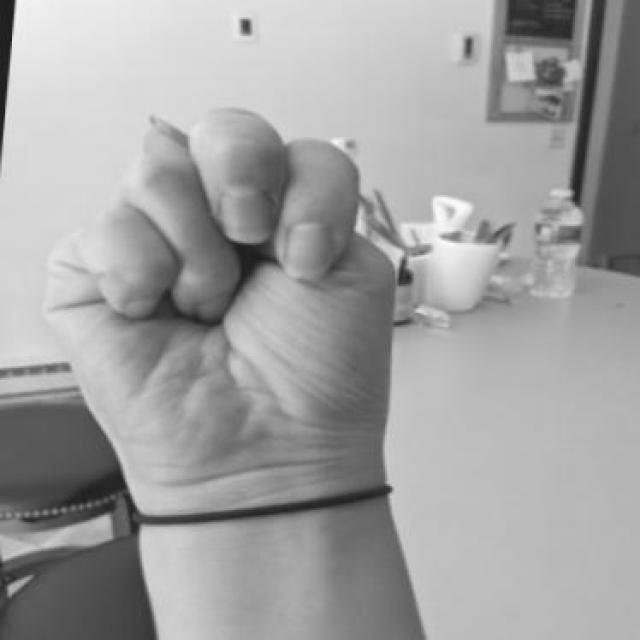N: (20, 89, 427, 520)
